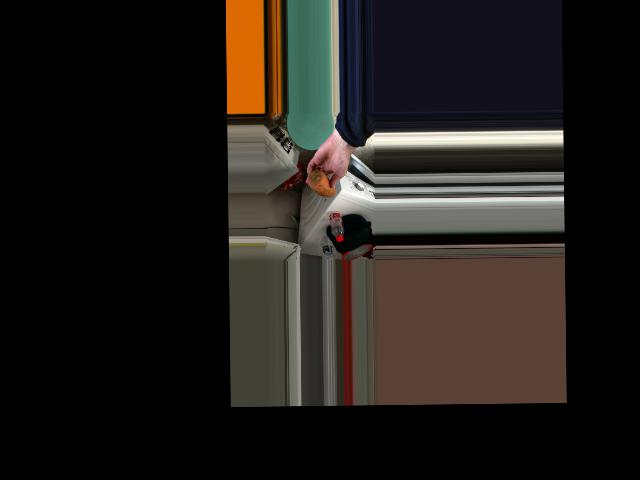sweet_potato: (310, 165, 338, 197)
